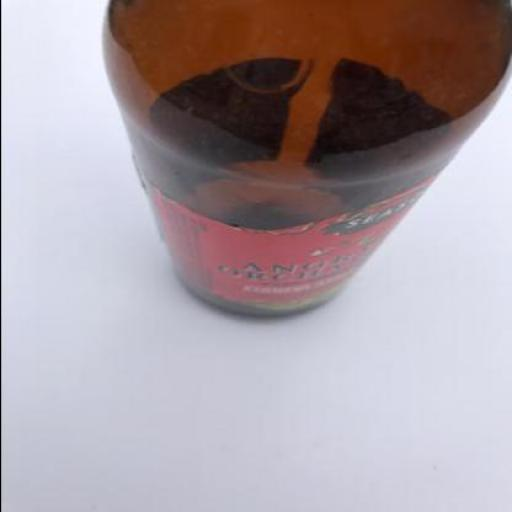glass: (102, 0, 511, 322)
